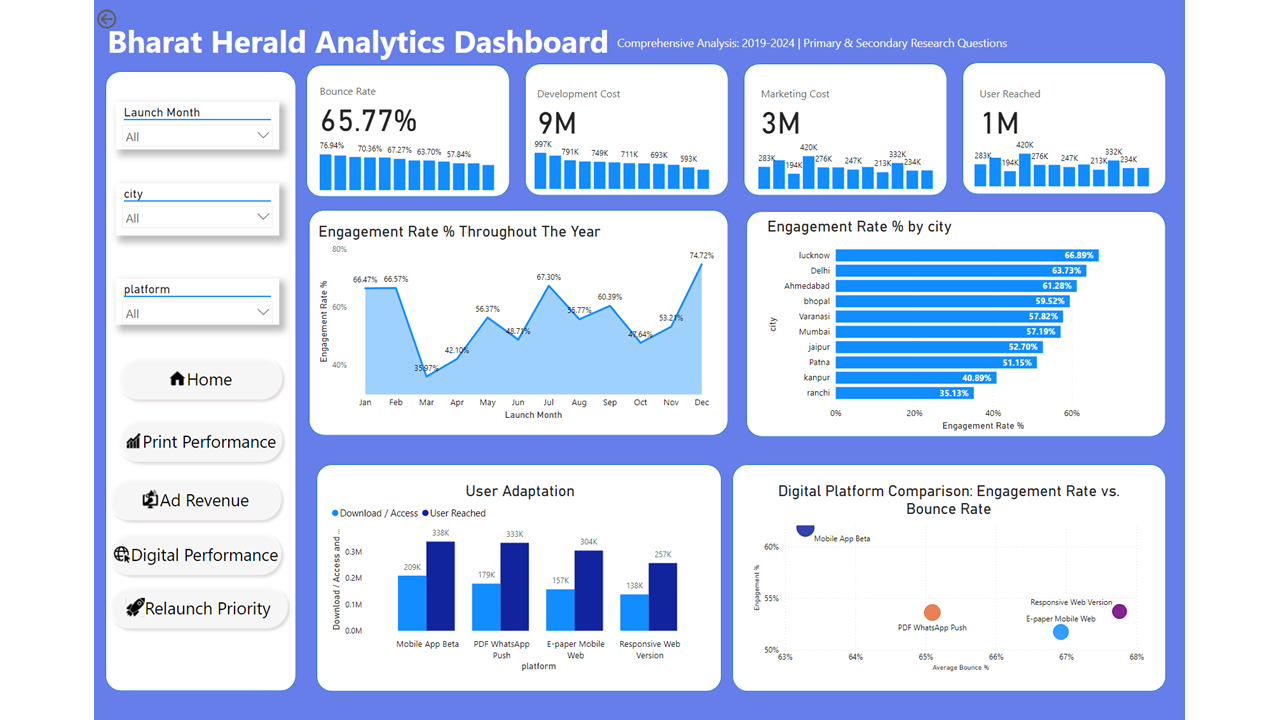

The dashboard page shown, as its layout file describes it:
{"tool":"powerbi","page":{"name":"Digital Peformance ","canvas":[1717,1112],"ordinal":3},"visuals":[{"type":"textbox","box":[15.9,15.9,800,86.4],"z":0},{"type":"shape","box":[17.5,102.5,300,975],"z":1000},{"type":"shape","box":[337.5,320,660,355],"z":2000},{"type":"shape","box":[350,720,637.5,357.5],"z":3000},{"type":"textbox","box":[817.5,40,652.5,37.5],"z":4000},{"type":"shape","box":[335,92.5,320,207.5],"z":5000},{"type":"actionButton","box":[0,0,100,40],"z":6000},{"type":"slicer","title":"Year","fields":{"Values":["digital_pilot.Launch Month "]},"box":[35,150,257.5,75],"z":7000},{"type":"cardVisual","fields":{"Data":["digital_pilot.Actual Bounce Rate"]},"box":[337.5,107.5,250,112.5],"z":8000},{"type":"clusteredColumnChart","fields":{"Category":["digital_pilot.Launch Month"],"Y":["digital_pilot.Actual Bounce Rate"]},"box":[350,200,285,95],"z":9000},{"type":"slicer","title":"Year","fields":{"Values":["city.city"]},"box":[35,277.5,257.5,82.5],"z":10000},{"type":"shape","box":[677.5,90,320,207.5],"z":11000},{"type":"cardVisual","fields":{"Data":["Sum(digital_pilot.dev_cost)"]},"box":[687.5,112.5,250,112.5],"z":12000},{"type":"shape","box":[1005,720,682.5,357.5],"z":13000},{"type":"slicer","title":"Year","fields":{"Values":["digital_pilot.platform"]},"box":[35,427.5,257.5,72.5],"z":14000},{"type":"shape","box":[1022.5,90,320,207.5],"z":15000},{"type":"shape","box":[1367.5,87.5,320,207.5],"z":16000},{"type":"clusteredColumnChart","fields":{"Category":["digital_pilot.Launch Month"],"Y":["Sum(digital_pilot.dev_cost)"]},"box":[687.5,197.5,285,95],"z":17000},{"type":"cardVisual","fields":{"Data":["Sum(digital_pilot.marketing_cost)"]},"box":[1040,112.5,250,112.5],"z":18000},{"type":"clusteredColumnChart","fields":{"Category":["digital_pilot.Launch Month"],"Y":["Sum(digital_pilot.marketing_cost)"]},"box":[1040,197.5,285,95],"z":19000},{"type":"cardVisual","fields":{"Data":["Sum(digital_pilot.users_reached)"]},"box":[1385,112.5,250,112.5],"z":20000},{"type":"clusteredColumnChart","fields":{"Category":["digital_pilot.Launch Month"],"Y":["Sum(digital_pilot.marketing_cost)"]},"box":[1380,195,285,95],"z":21000},{"type":"lineChart","title":"Engagement Rate % Throughout The Year","fields":{"Category":["digital_pilot.Launch Month "],"Y":["digital_pilot.Engagement Rate %"]},"box":[347.5,340,632.5,315],"z":22000},{"type":"shape","box":[1027.5,322.5,660,355],"z":23000},{"type":"clusteredBarChart","fields":{"Category":["city.city"],"Y":["digital_pilot.Engagement Rate %"]},"box":[1055,332.5,595,340],"z":24000},{"type":"clusteredColumnChart","title":"User Adaptation","fields":{"Category":["digital_pilot.platform"],"Y":["Sum(digital_pilot.downloads_or_accesses)","Sum(digital_pilot.users_reached)"]},"box":[367.5,747.5,605,302.5],"z":25000},{"type":"scatterChart","title":"Digital Platform Comparison: Engagement Rate vs. Bounce Rate","fields":{"X":["digital_pilot.Actual Bounce Rate"],"Y":["digital_pilot.Engagement Rate %"],"Series":["digital_pilot.platform"],"Size":["Sum(digital_pilot.downloads_or_accesses)"]},"box":[1032.5,747.5,625,302.5],"z":26000},{"type":"actionButton","box":[15,902.5,300,85],"z":27000},{"type":"actionButton","box":[15,817.5,290,85],"z":28000},{"type":"actionButton","box":[15,732.5,290,85],"z":29000},{"type":"actionButton","box":[27.5,640,277.5,85],"z":30000},{"type":"actionButton","box":[27.5,542.5,277.5,85],"z":31000}]}

Visuals, with their boxes on the page's 1717x1112 design canvas (x1, y1, x2, y2). These are canvas units, not pixel positions in the 1280x720 screenshot, which may show the page scaled, cropped or inside an application window:
textbox: 16/16/816/102
shape: 18/102/318/1078
shape: 338/320/998/675
shape: 350/720/988/1078
textbox: 818/40/1470/78
shape: 335/92/655/300
actionButton: 0/0/100/40
"Year" slicer: 35/150/292/225
cardVisual - digital_pilot.Actual Bounce Rate: 338/108/588/220
clusteredColumnChart - digital_pilot.Launch Month x digital_pilot.Actual Bounce Rate: 350/200/635/295
"Year" slicer: 35/278/292/360
shape: 678/90/998/298
cardVisual - Sum(digital_pilot.dev_cost): 688/112/938/225
shape: 1005/720/1688/1078
"Year" slicer: 35/428/292/500
shape: 1022/90/1342/298
shape: 1368/88/1688/295
clusteredColumnChart - digital_pilot.Launch Month x Sum(digital_pilot.dev_cost): 688/198/972/292
cardVisual - Sum(digital_pilot.marketing_cost): 1040/112/1290/225
clusteredColumnChart - digital_pilot.Launch Month x Sum(digital_pilot.marketing_cost): 1040/198/1325/292
cardVisual - Sum(digital_pilot.users_reached): 1385/112/1635/225
clusteredColumnChart - digital_pilot.Launch Month x Sum(digital_pilot.marketing_cost): 1380/195/1665/290
"Engagement Rate % Throughout The Year" lineChart: 348/340/980/655
shape: 1028/322/1688/678
clusteredBarChart - city.city x digital_pilot.Engagement Rate %: 1055/332/1650/672
"User Adaptation" clusteredColumnChart: 368/748/972/1050
"Digital Platform Comparison: Engagement Rate vs. Bounce Rate" scatterChart: 1032/748/1658/1050
actionButton: 15/902/315/988
actionButton: 15/818/305/902
actionButton: 15/732/305/818
actionButton: 28/640/305/725
actionButton: 28/542/305/628
